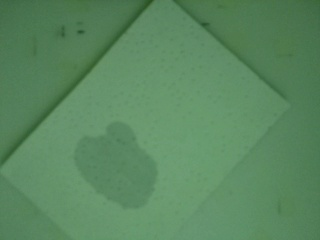Water_detected: (80, 129, 146, 194)
